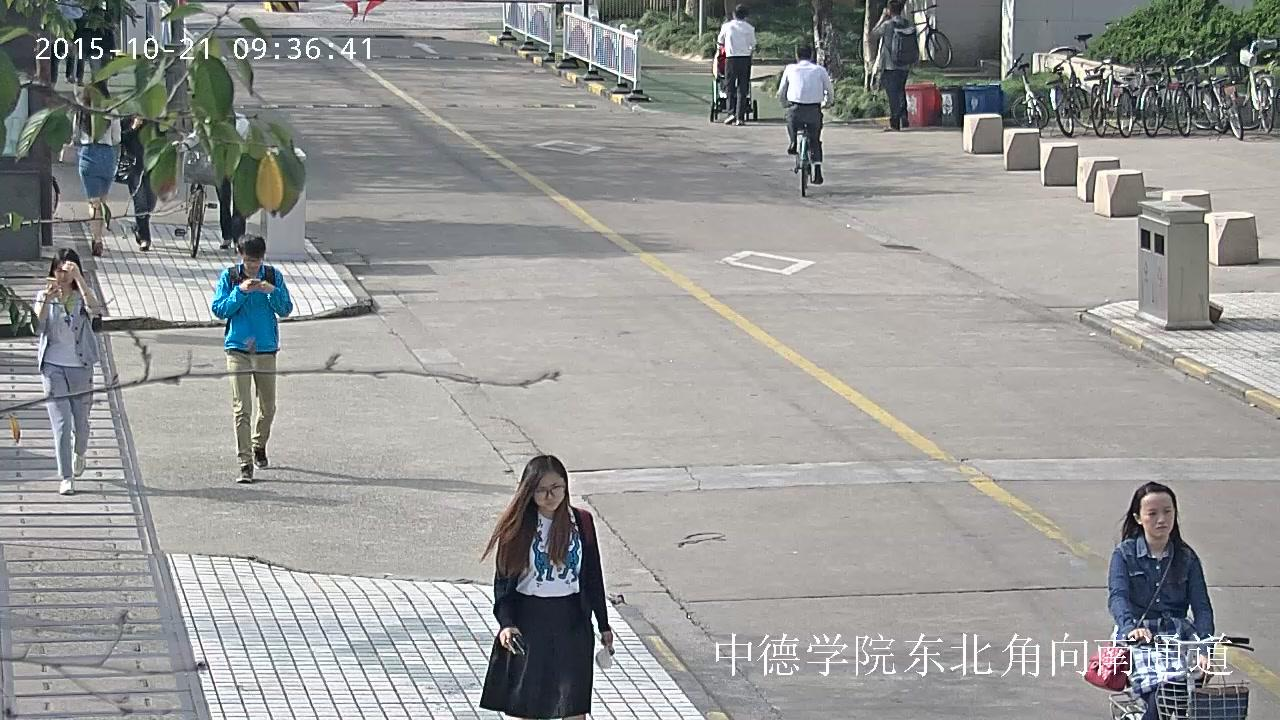person: (1080, 481, 1256, 720), (478, 455, 613, 720), (1082, 481, 1216, 720), (210, 234, 292, 482), (29, 246, 105, 496), (170, 113, 252, 260), (171, 112, 251, 253), (70, 77, 121, 257), (776, 42, 835, 197), (776, 42, 835, 183), (866, 0, 920, 132), (113, 113, 157, 251), (709, 2, 757, 126), (717, 2, 757, 126), (75, 2, 115, 97), (56, 0, 88, 87)
